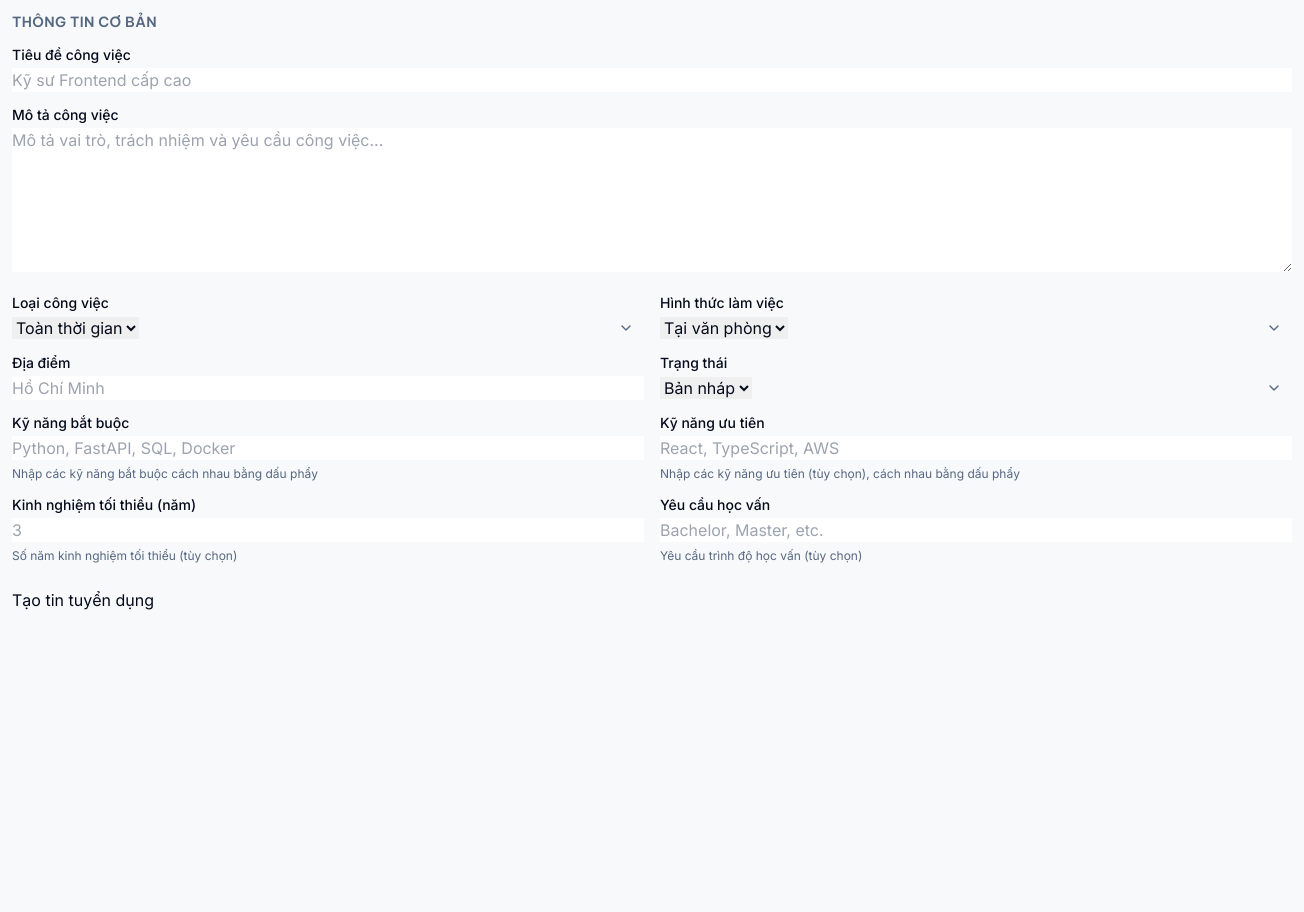
JobForm › shows error message on API failure
Type "Senior Frontend Engineer" into the field labelled "Tiêu đề công việc". click: (652, 80)
box: x1=12 y1=68 x2=1292 y2=92
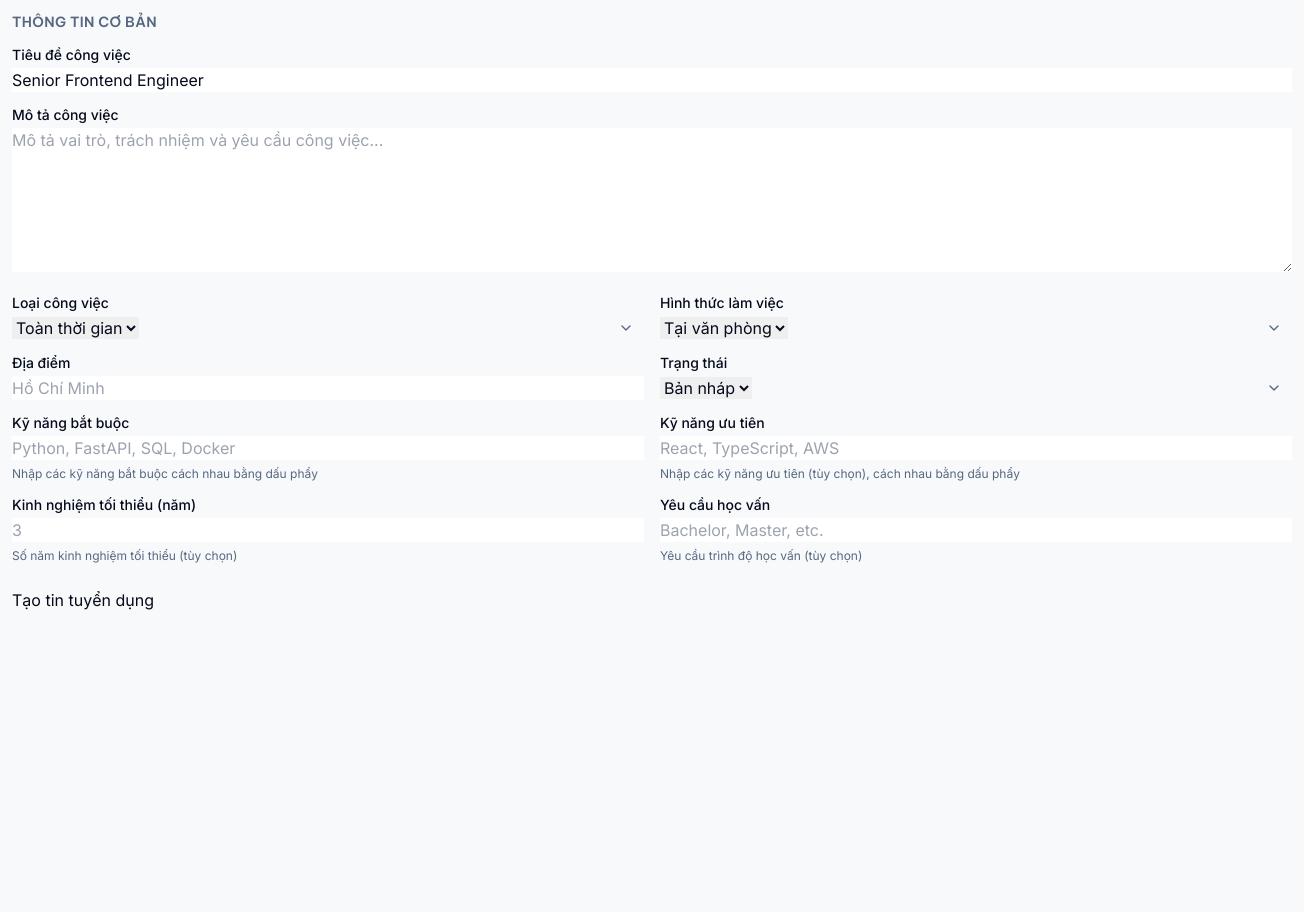
Type "Build modern web applications with React." into the text box labelled "Mô tả công việc". click: (652, 200)
box: x1=12 y1=128 x2=1292 y2=272
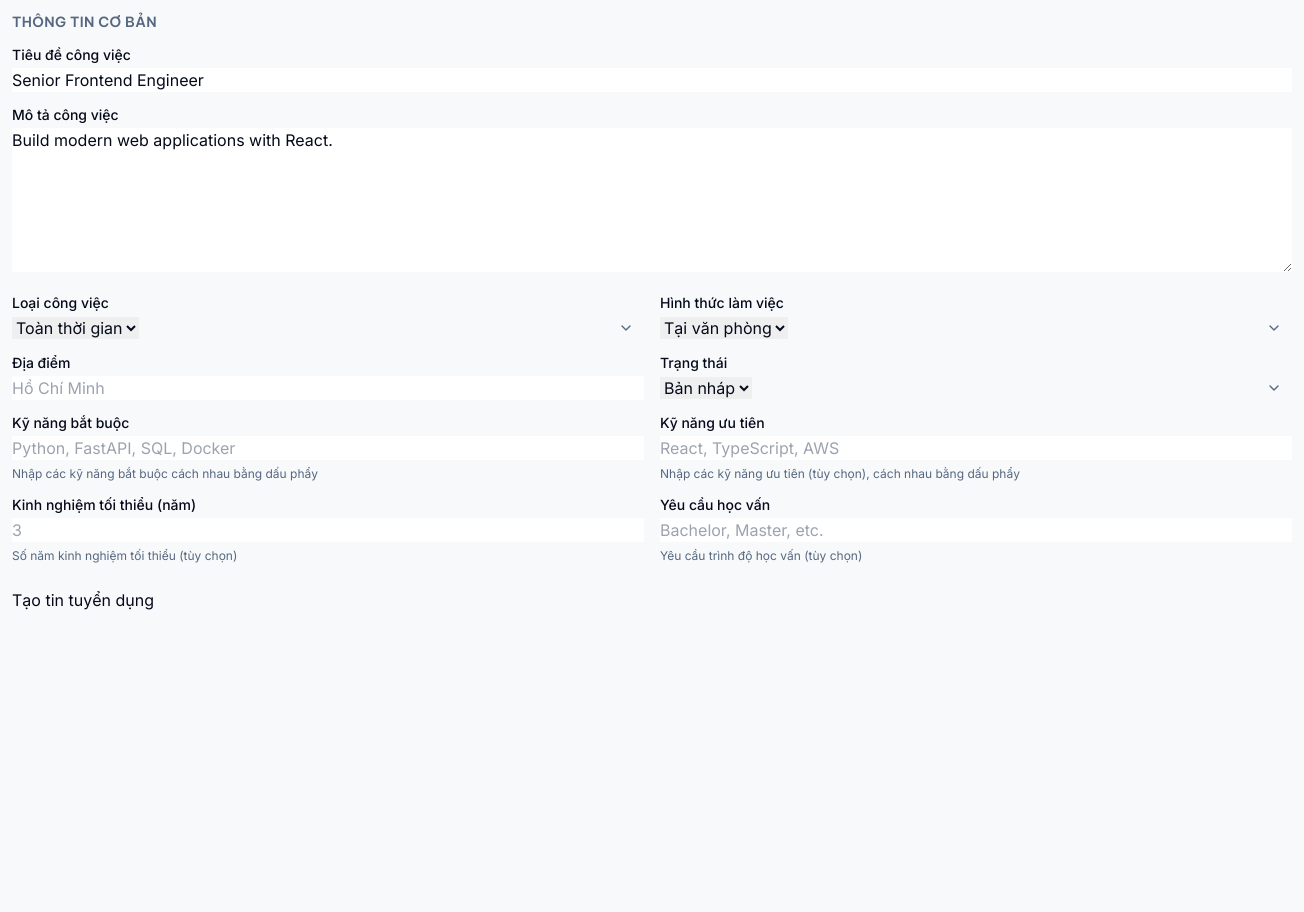
Click the button "Tạo tin tuyển dụng". click: (83, 600)
box: x1=12 y1=588 x2=154 y2=612
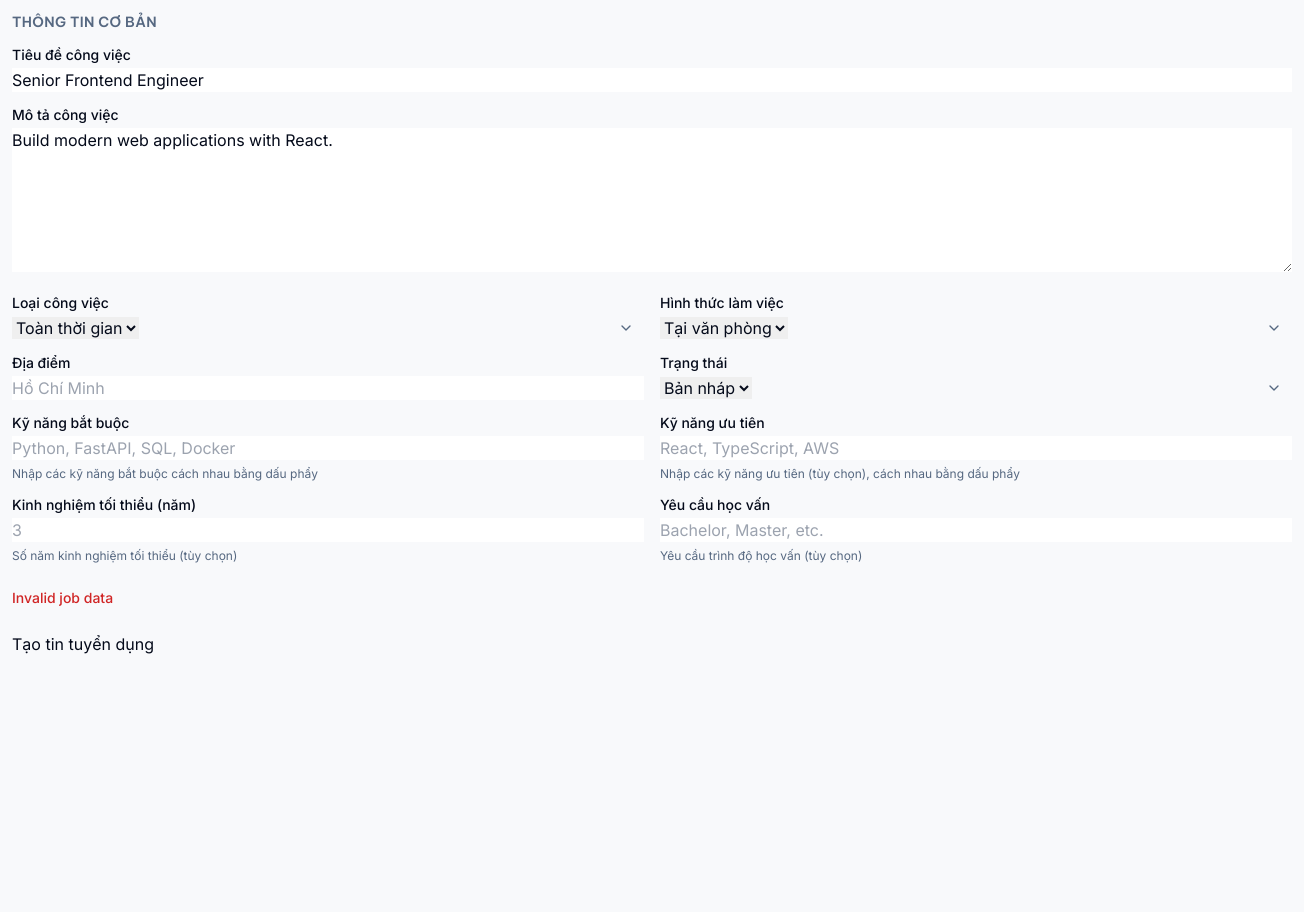
Check: the text "Invalid job data" is shown, box x1=12 y1=589 x2=113 y2=606
